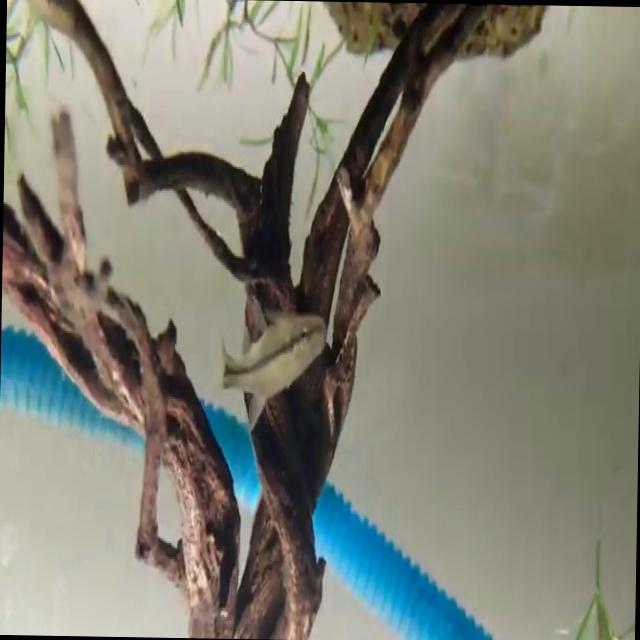Cakil Baligi: (216, 304, 332, 438)
